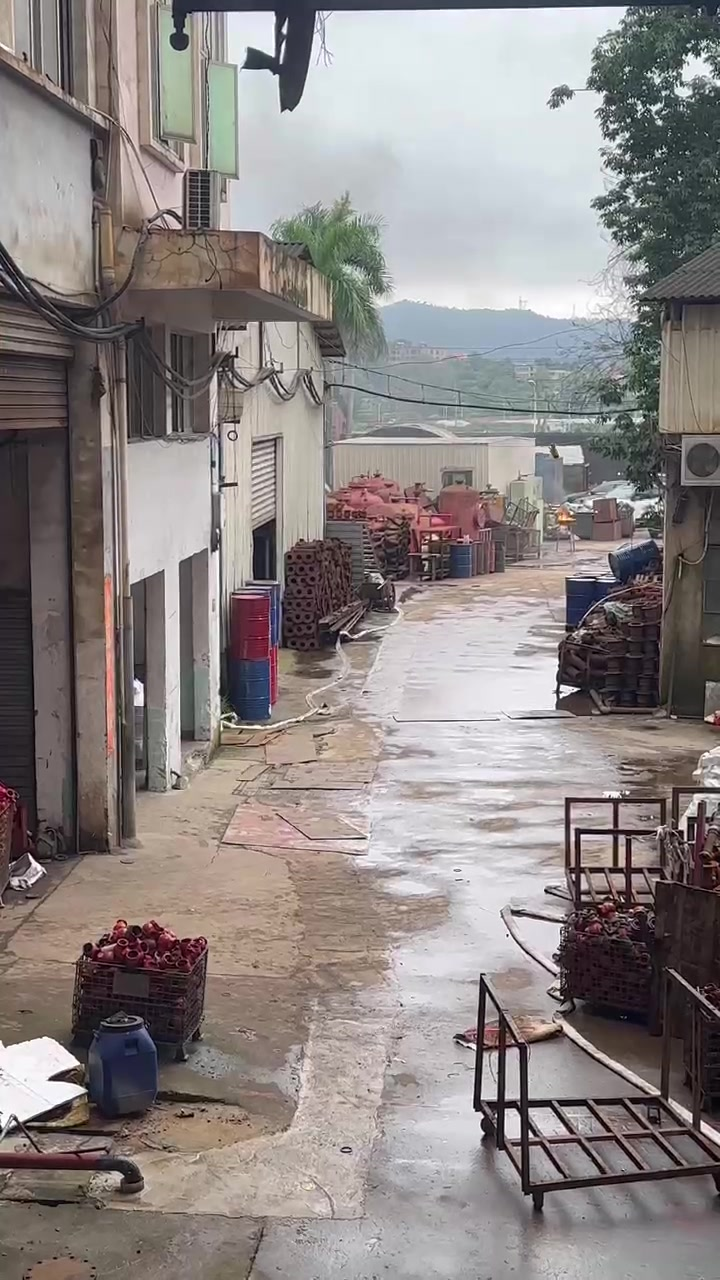fire: (557, 509, 576, 521)
